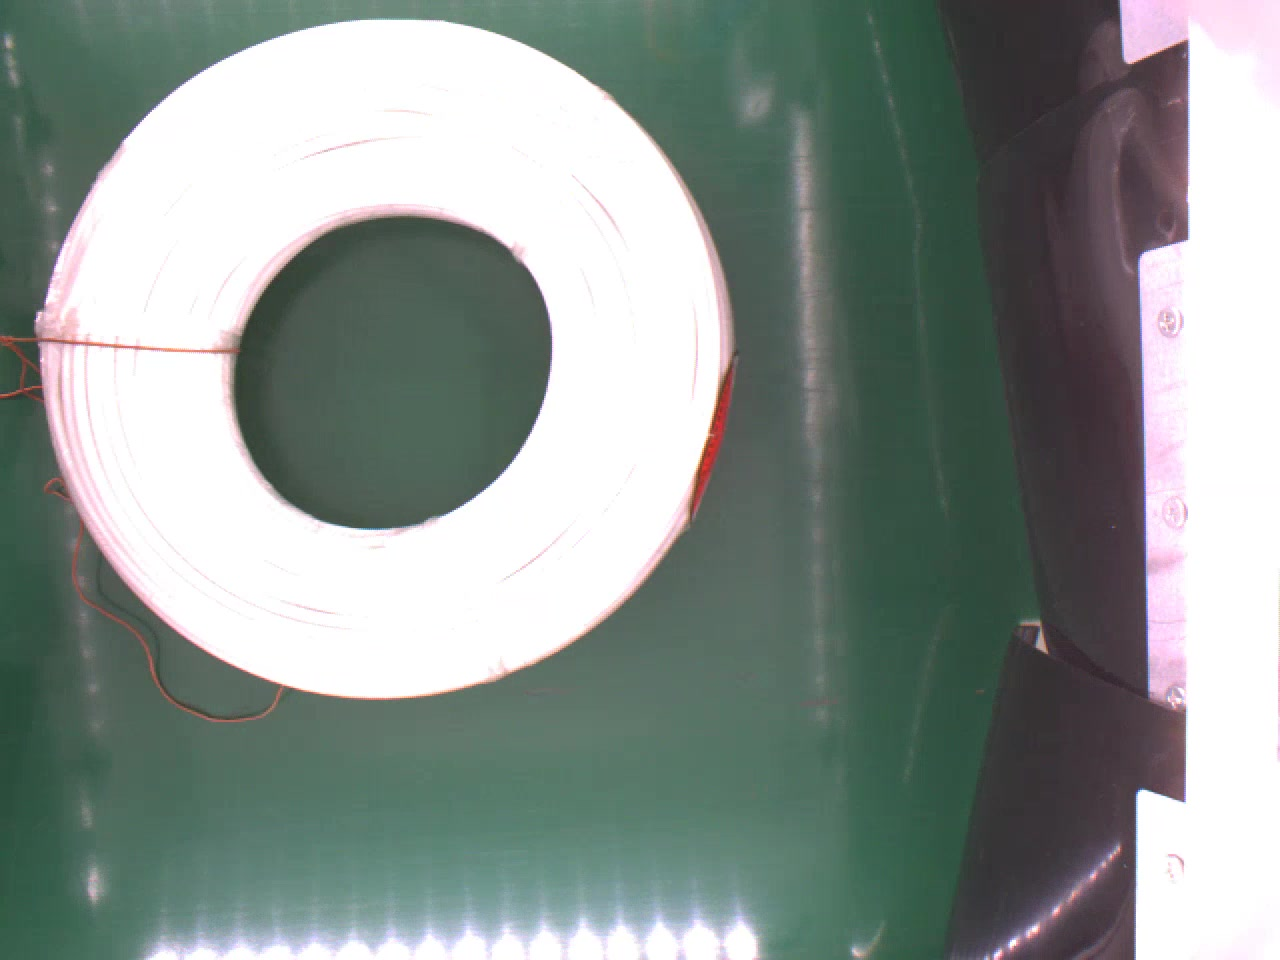white: (38, 20, 742, 700)
